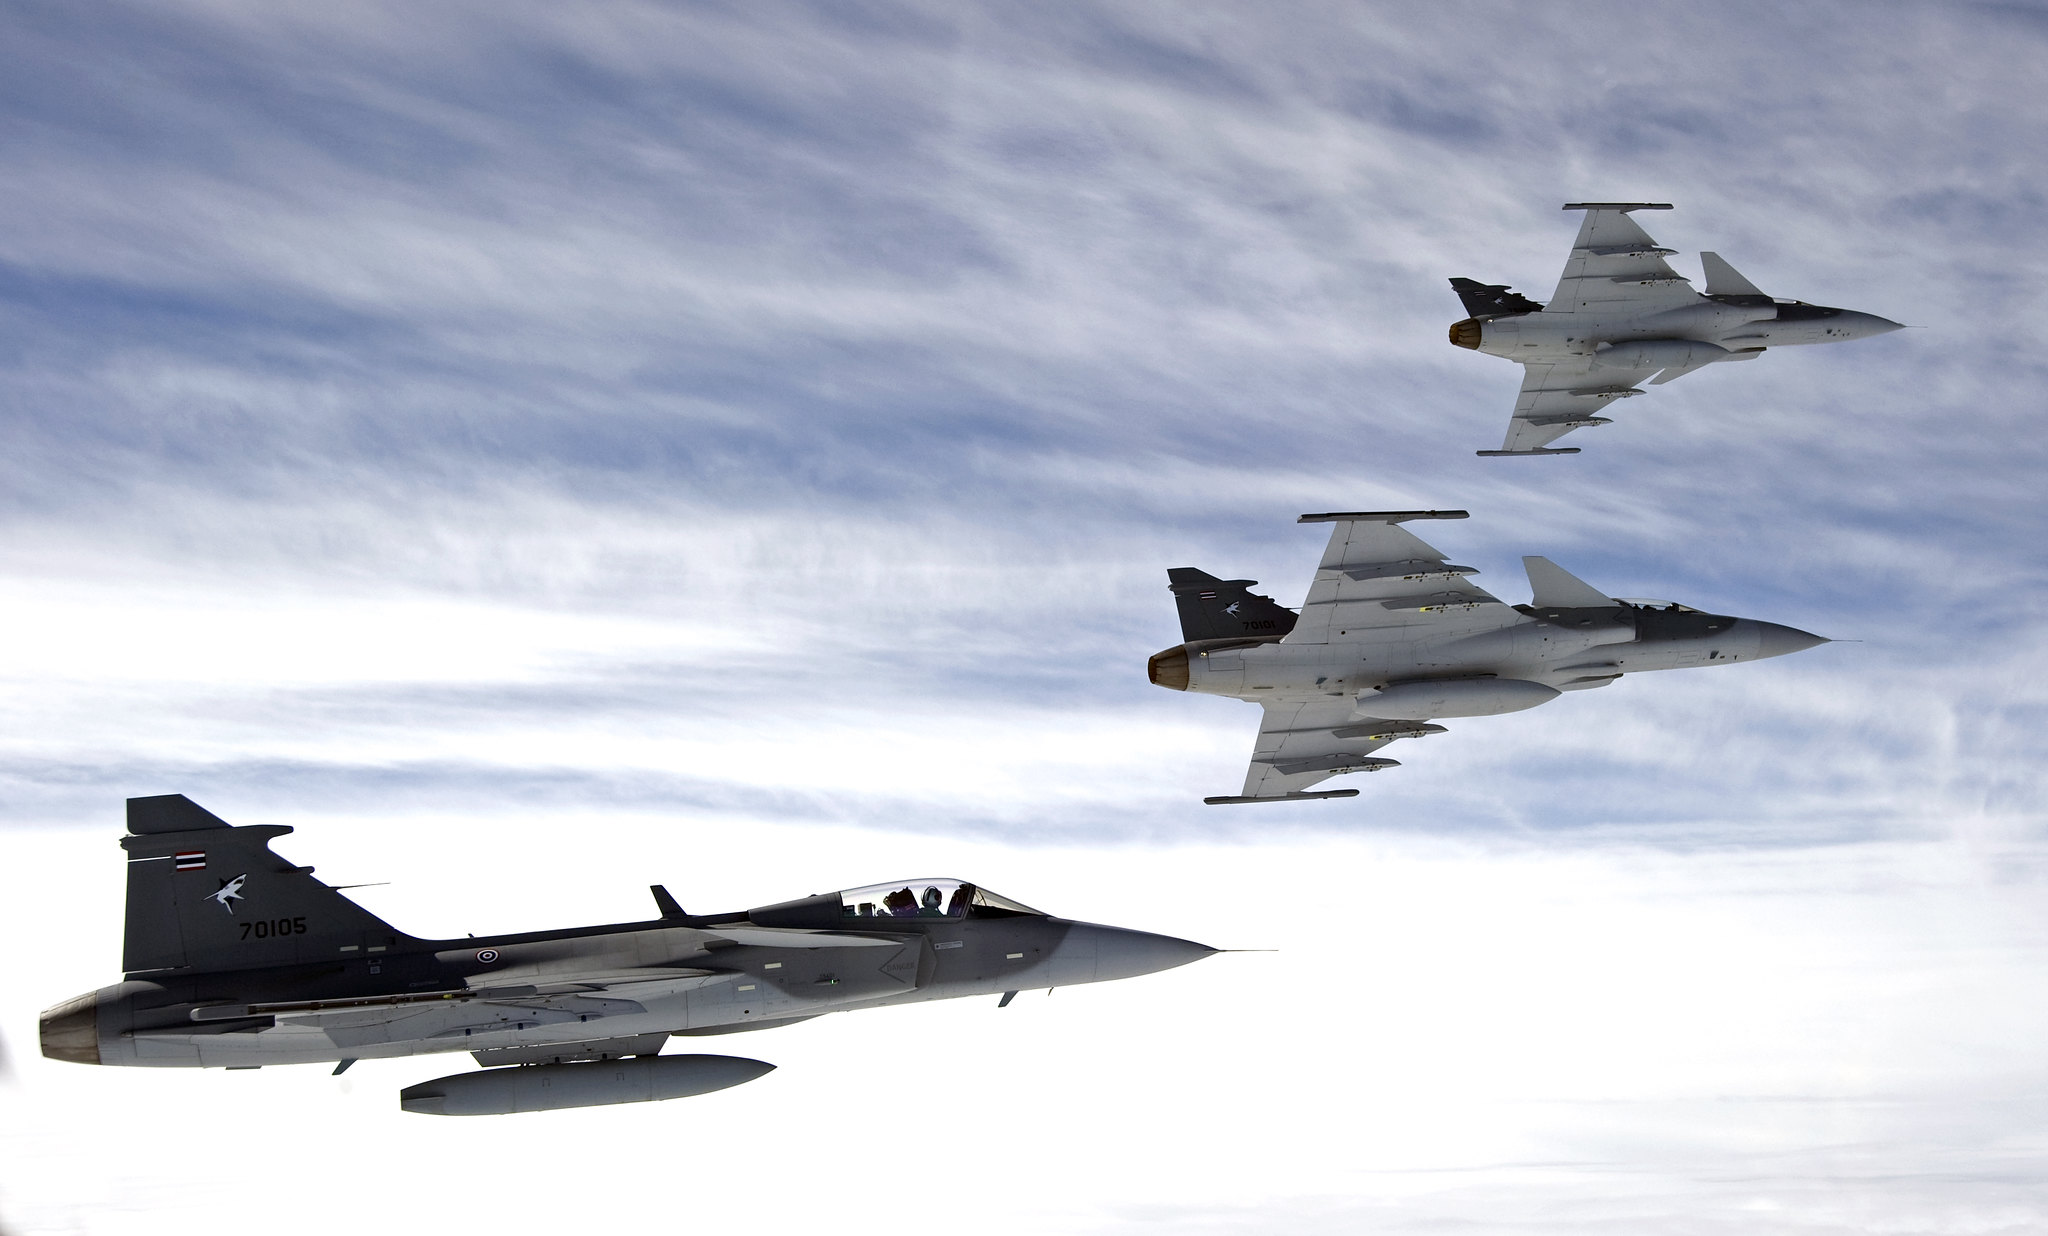JAS39: (38, 793, 1280, 1118), (1147, 508, 1864, 804), (1447, 202, 1930, 458)
